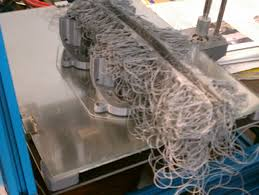Fail: (52, 1, 259, 195)
